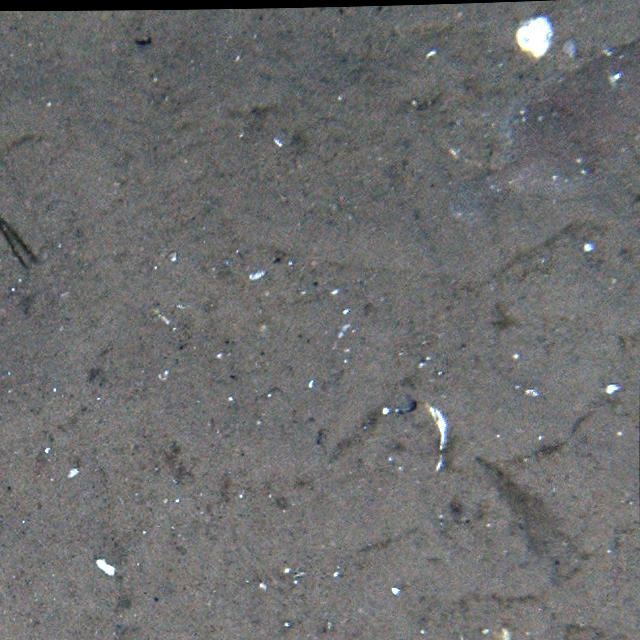flatfish: (460, 34, 640, 229)
